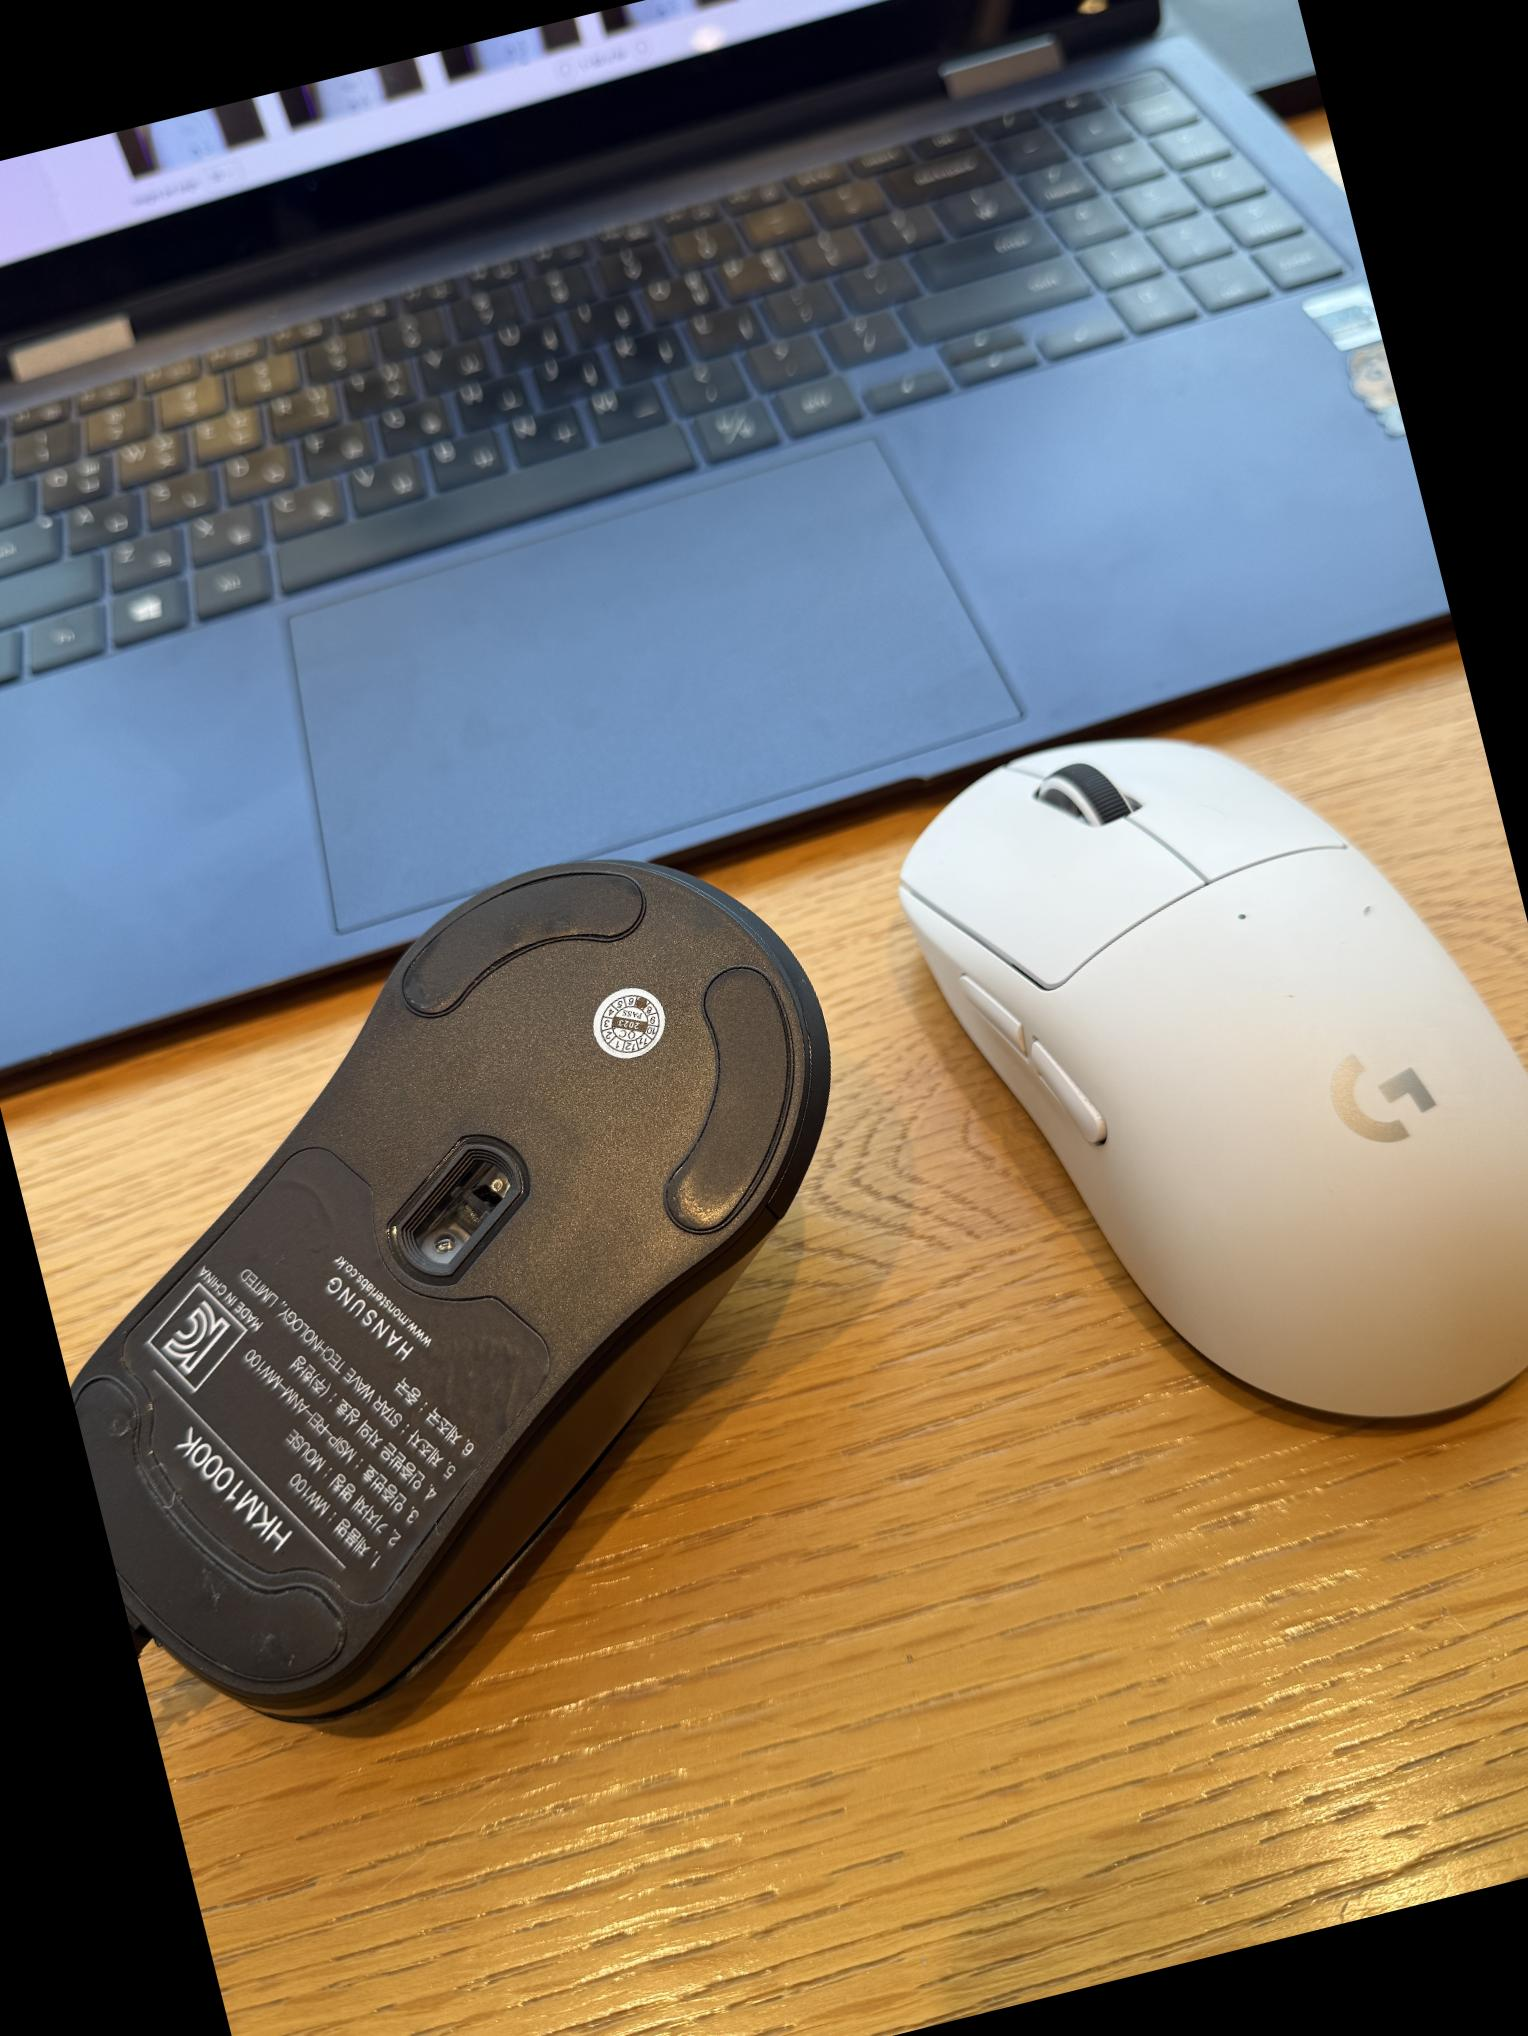back: (0, 805, 966, 1778)
front: (859, 647, 1528, 1531)
